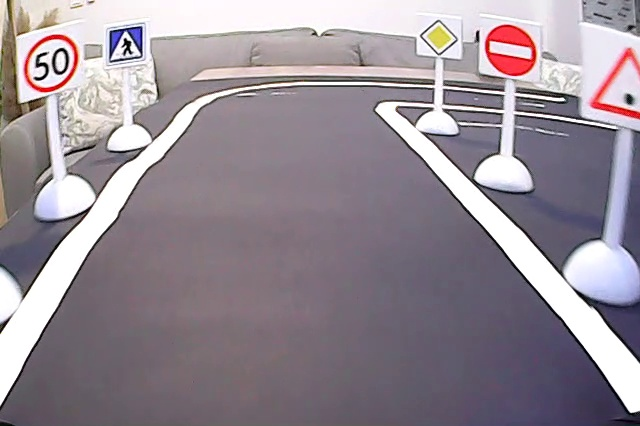do not enter: (479, 18, 545, 84)
green light: (581, 27, 640, 122)
pedestrian crossing: (110, 26, 147, 63)
speed limit 50: (18, 34, 82, 97)
